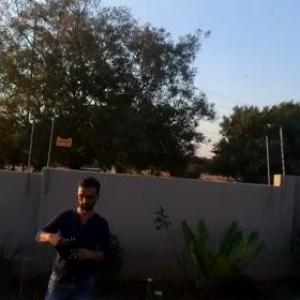follow: (32, 167, 114, 299)
